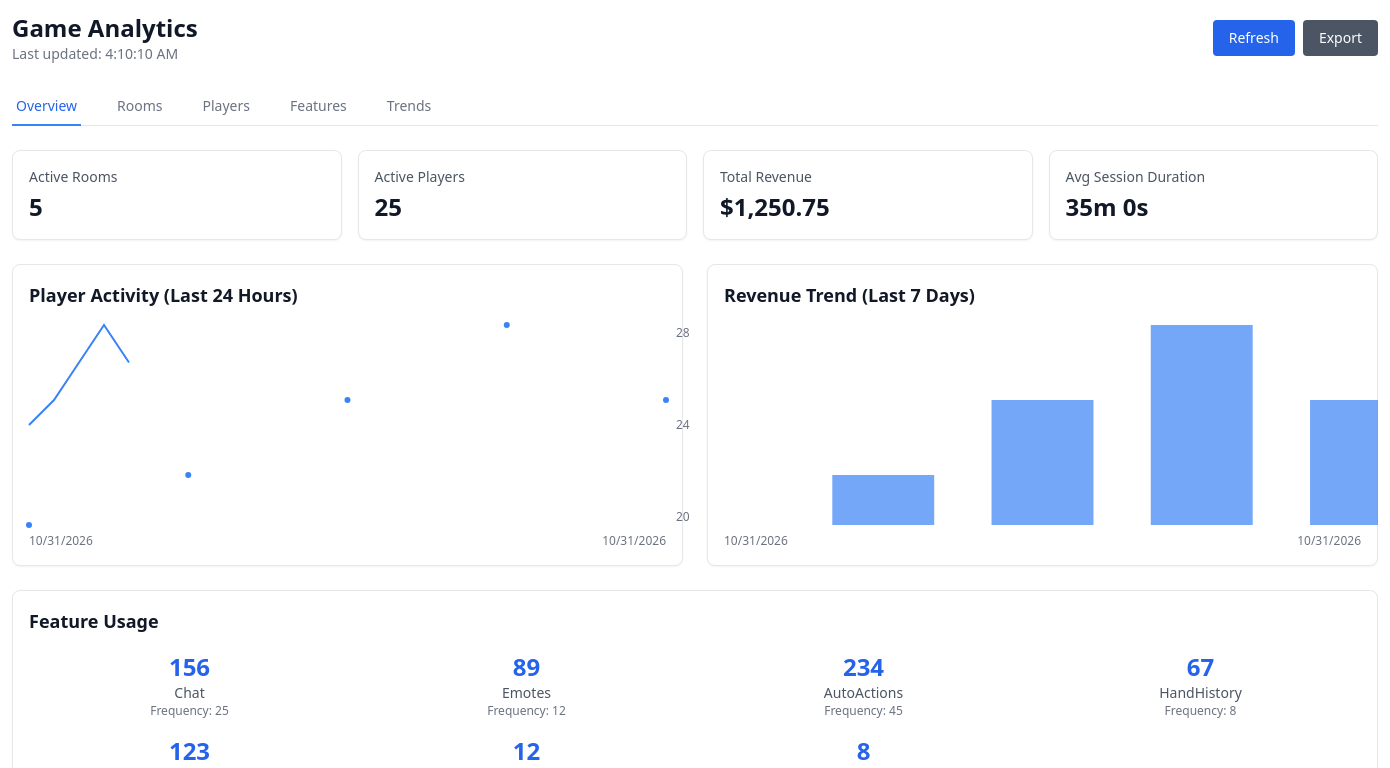
Scenario: GameAnalyticsDashboard › Features Tab Content › should display feature usage metrics
Click the button "Features" at (318, 107), box [286,88,351,126]
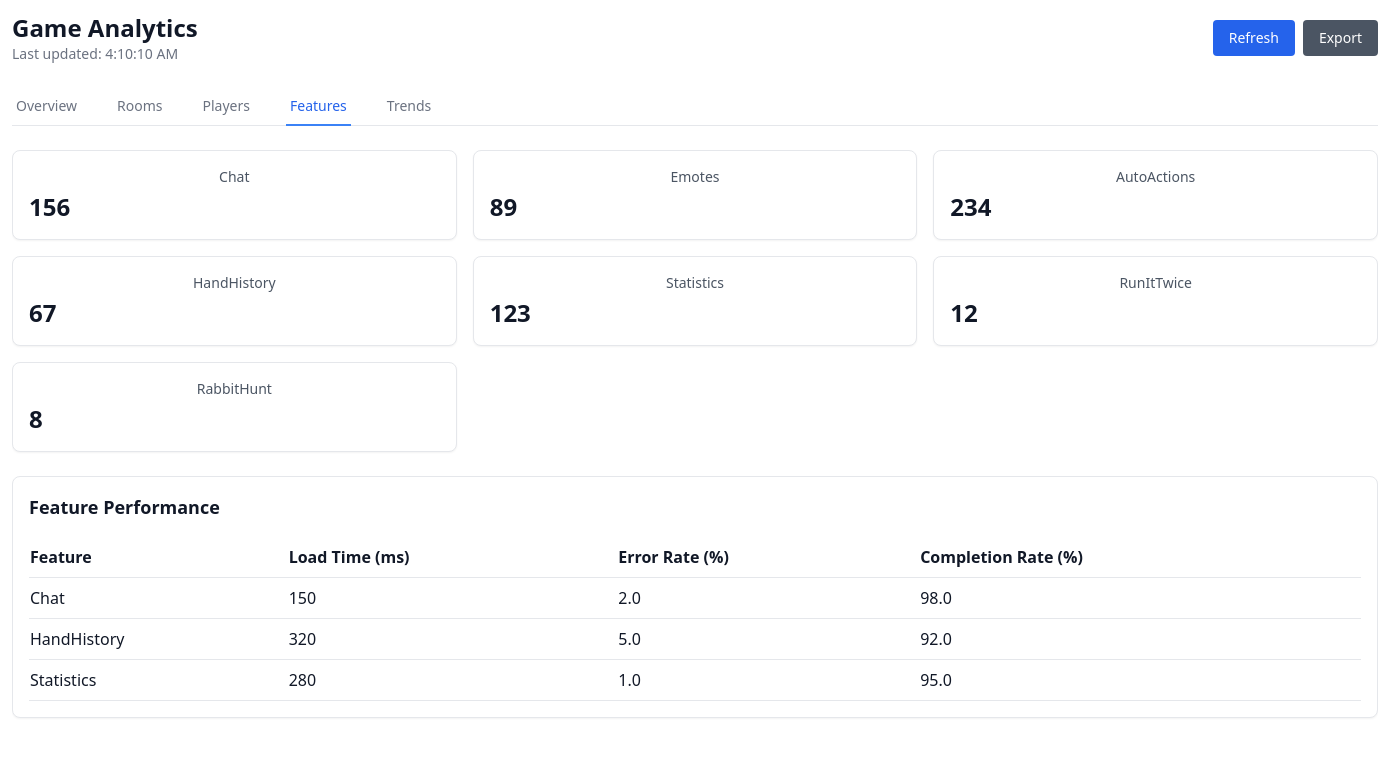
Expected: the text "Emotes" is shown, [670,167,720,186]
Result: the text "Chat" is shown at [219,167,250,186]
Result: the text "HandHistory" is shown at [193,273,276,292]
